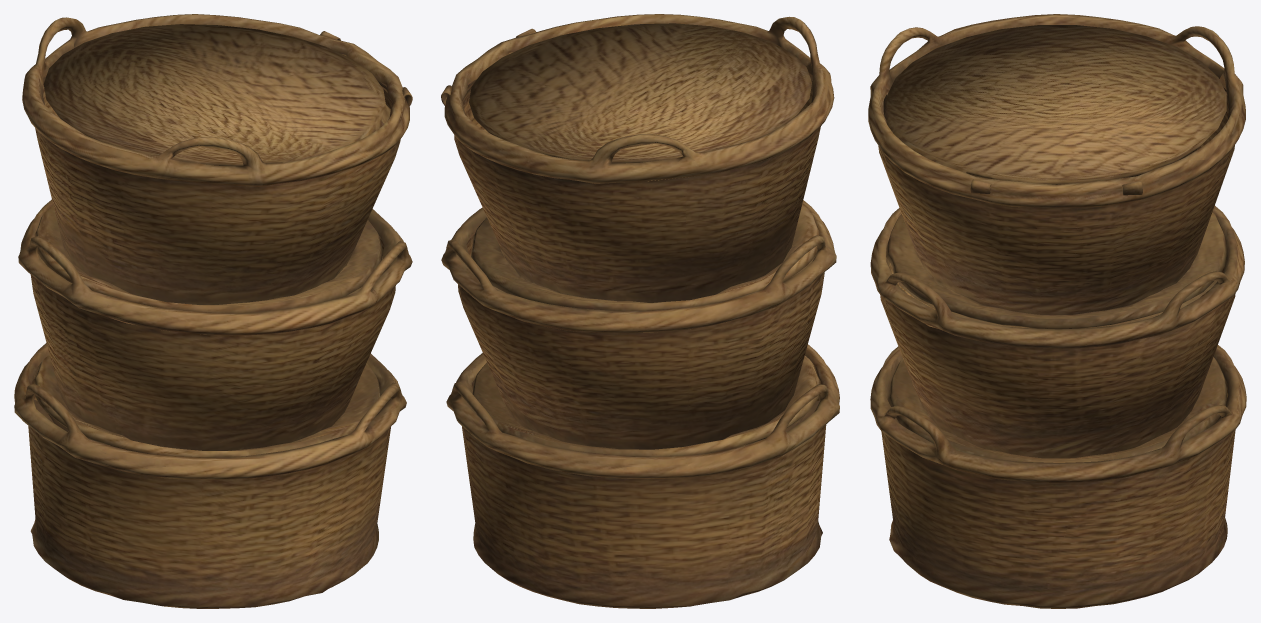
Rendered from SM_Env_SohoWickerBaskets.fbx.
3 renders of one model, left to right at view 1: azimuth 30°, elevation 25°; view 2: azimuth 150°, elevation 25°; view 3: azimuth 270°, elevation 25°, orthographic. The views are drawn at different scales.
Parts seen in each view (by area): view 1: SM_Env_SohoWickerBaskets; view 2: SM_Env_SohoWickerBaskets; view 3: SM_Env_SohoWickerBaskets.
Part boxes in pixels (<box>): SM_Env_SohoWickerBaskets: <box>14,14,412,608</box>; SM_Env_SohoWickerBaskets: <box>441,14,839,608</box>; SM_Env_SohoWickerBaskets: <box>868,14,1246,608</box>.
Size of the model in its own units: 22.22 by 21.51 by 30.
Materials: 1 (1 with a texture image).
